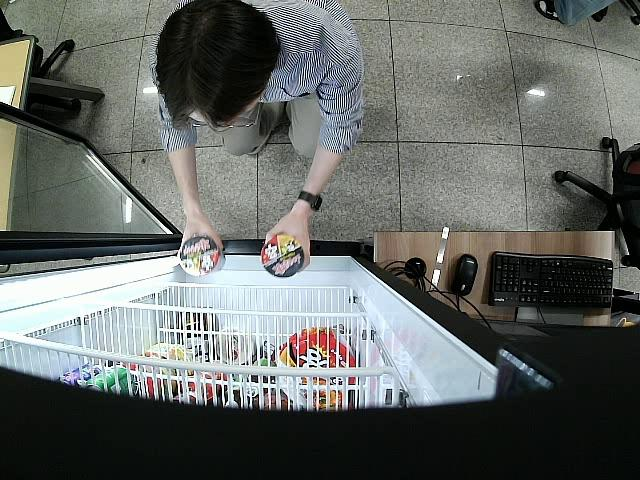00_hand: (265, 216, 312, 273), (177, 220, 225, 255)
08_buldak_S: (178, 236, 225, 275), (262, 236, 303, 279)
